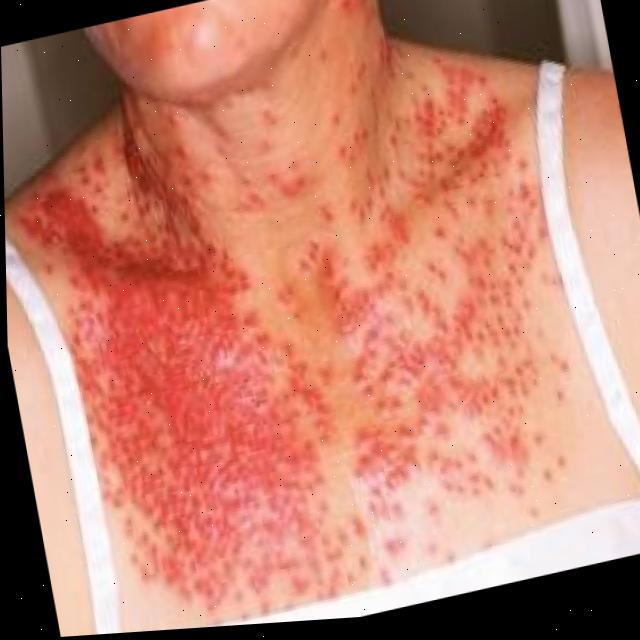Eczema: (24, 74, 588, 595)
